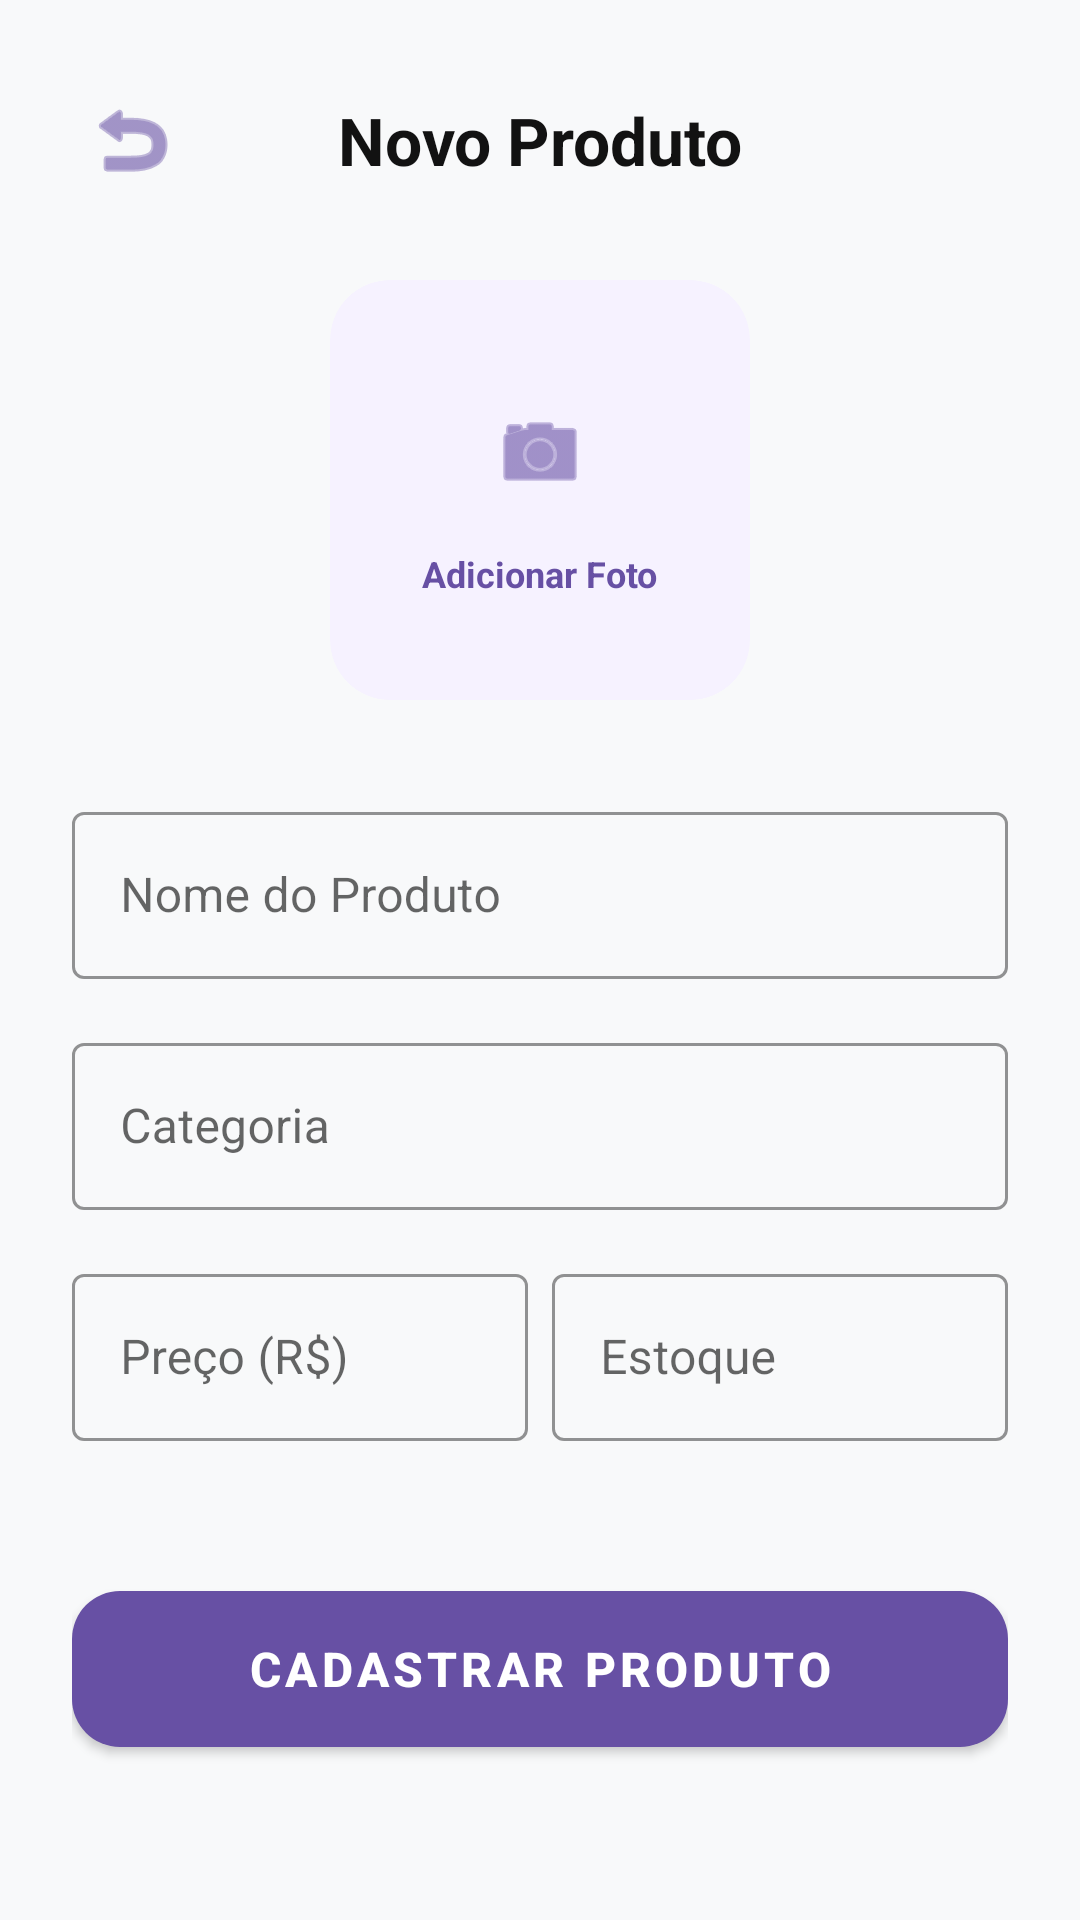

Named icons in this screenshot (1080x1920) and their bounding boxes, (x1, y1, x2, y2):
camera: (503, 422, 577, 481)
revert: (99, 109, 168, 172)
